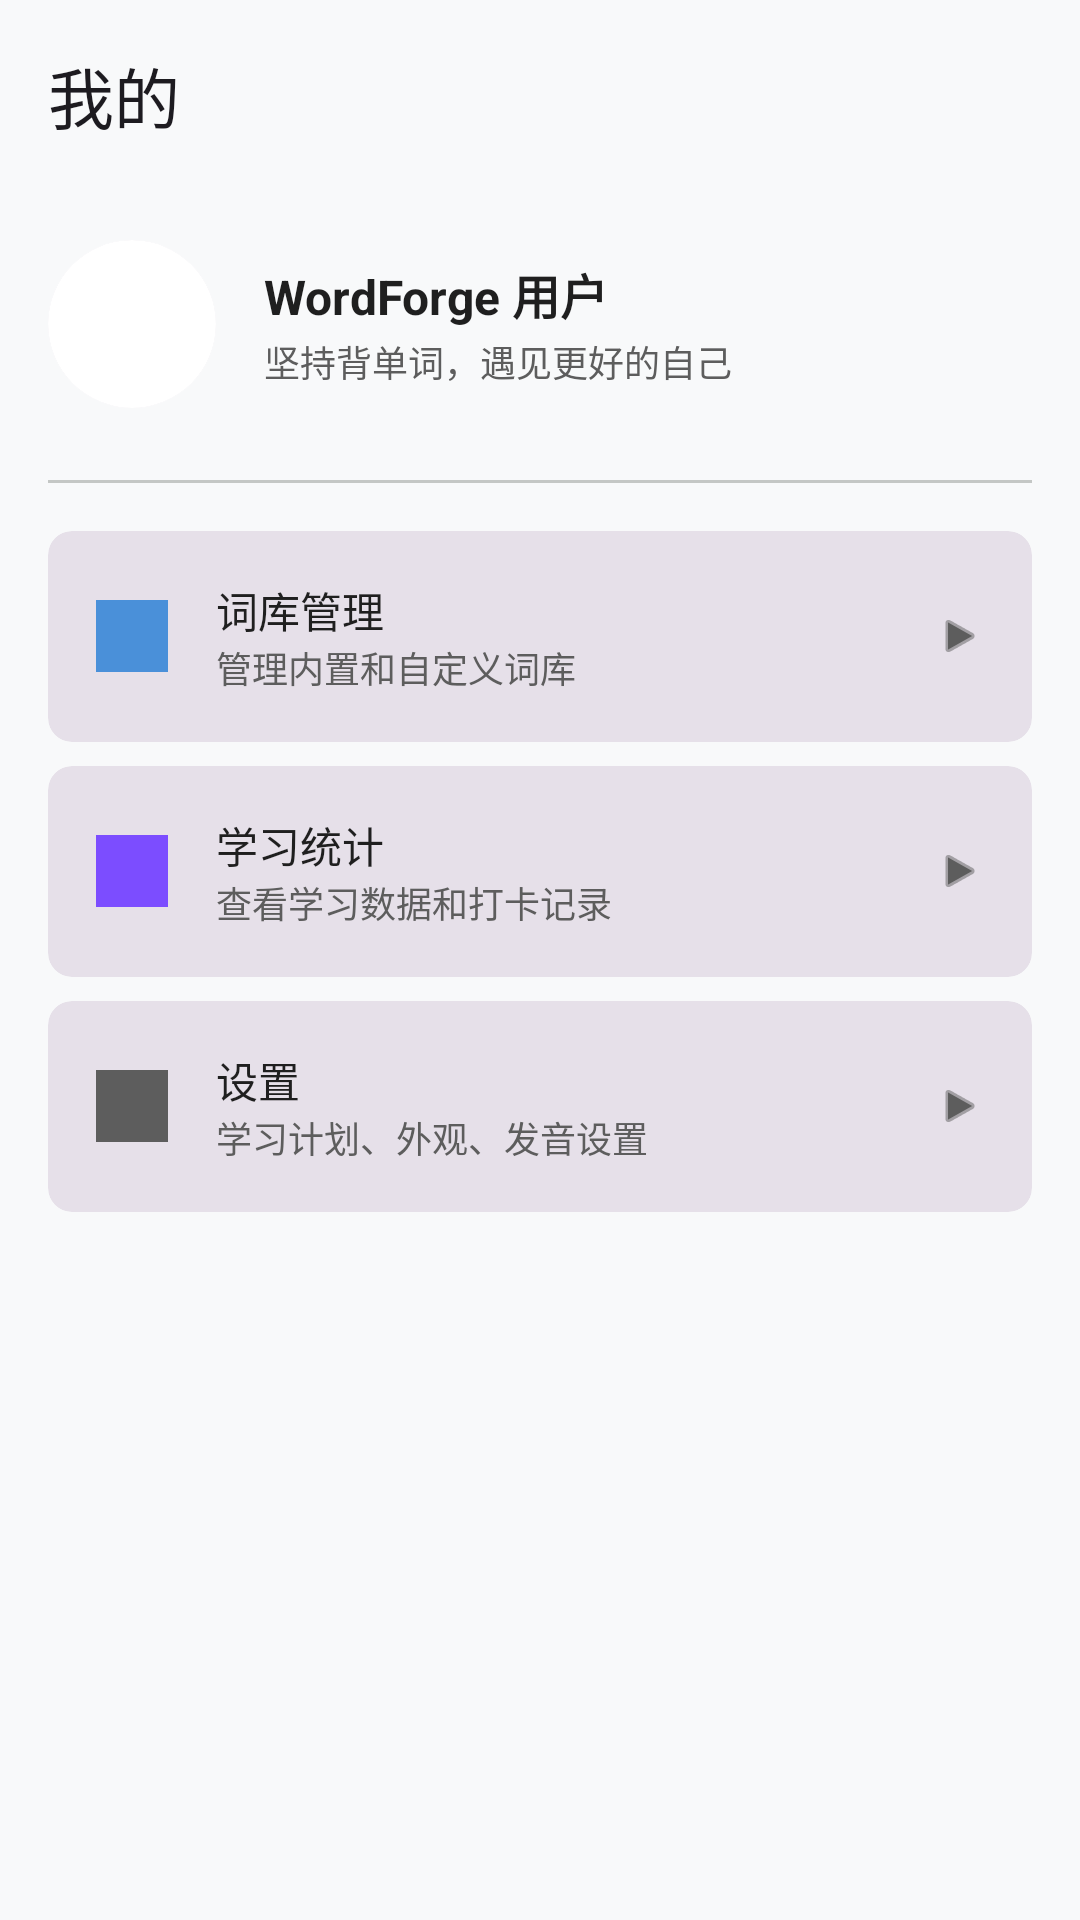

Screen size 1080px x 1920px. Icon name, then its box in pixels as {"left": x1, "top": y1, "right": x2, "bottom": y2}:
进入: {"left": 945, "top": 620, "right": 975, "bottom": 652}, {"left": 945, "top": 855, "right": 975, "bottom": 887}, {"left": 945, "top": 1090, "right": 975, "bottom": 1122}
